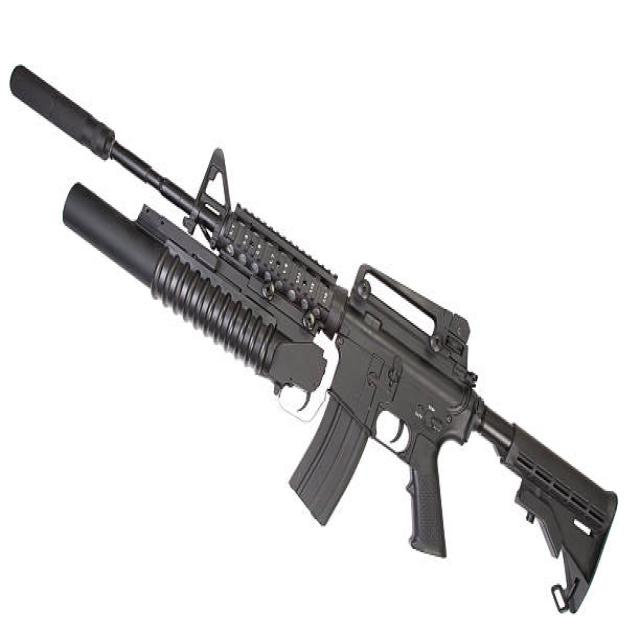rifle: (7, 47, 624, 628)
